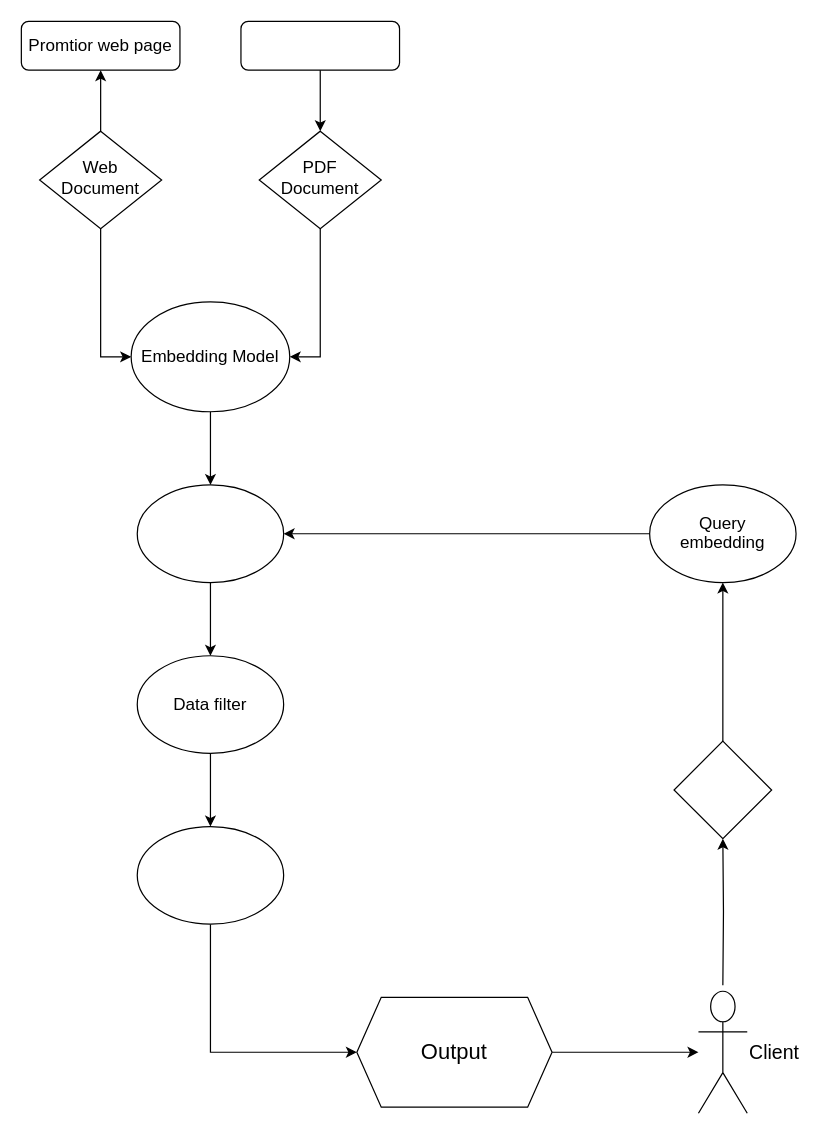
Image size: 821x1135. Some labels were removed from this diagram. Here are the shapes that lost their labels. From the top down, the box of each, then its label:
(240, 20, 400, 70): AI Engineer PDF
(136, 484, 284, 583): Vector database
(673, 740, 772, 839): Question
(136, 825, 284, 924): LLM
